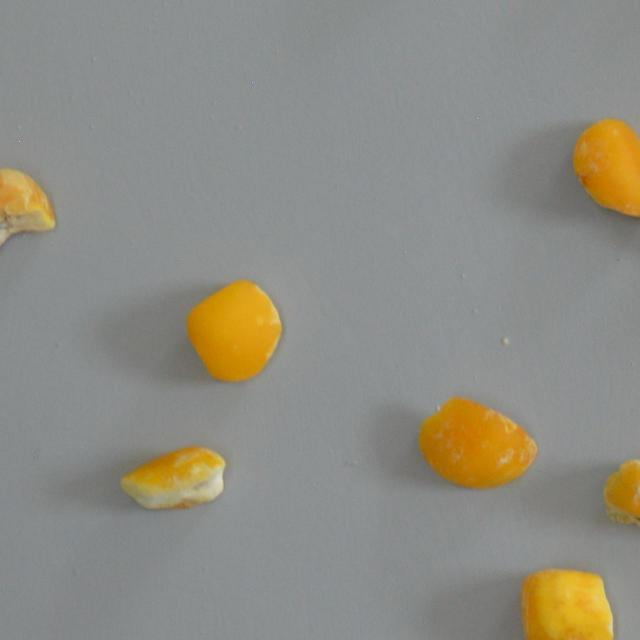dañado: (558, 112, 640, 228), (0, 164, 54, 263)
pelicula: (415, 396, 539, 493), (186, 277, 286, 386), (116, 440, 240, 516), (517, 568, 618, 640), (602, 459, 640, 535)
